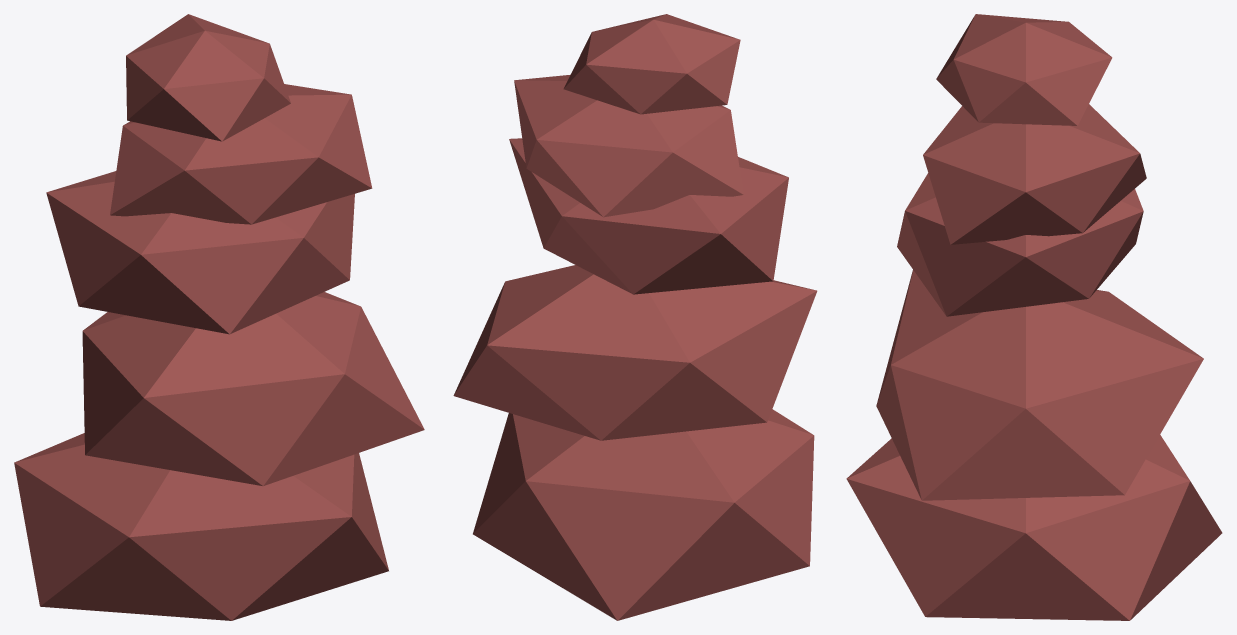
Rendered from stone_stack.glb.
The picture shows the model from 3 angles, left to right: view 1: azimuth 30°, elevation 25°; view 2: azimuth 150°, elevation 25°; view 3: azimuth 270°, elevation 25°; orthographic projection. The views are drawn at different scales.
Visible parts, largest first — view 1: stone_stack; view 2: stone_stack; view 3: stone_stack.
Boxes of the visible parts, x1=… form: stone_stack: x1=14, y1=14, x2=424, y2=620; stone_stack: x1=453, y1=14, x2=817, y2=620; stone_stack: x1=846, y1=14, x2=1222, y2=620.
Size of the model in its own units: 1.13 by 1.82 by 1.12.
